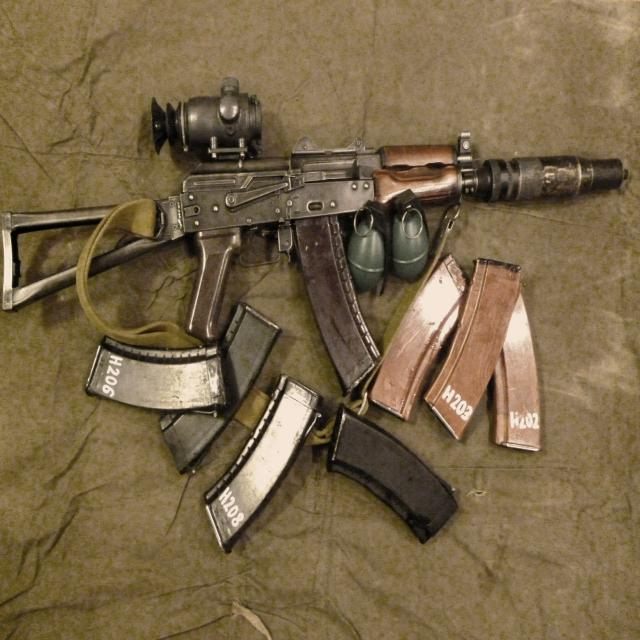firearm: (0, 76, 628, 401)
grenade: (348, 199, 393, 299), (392, 188, 430, 280)
